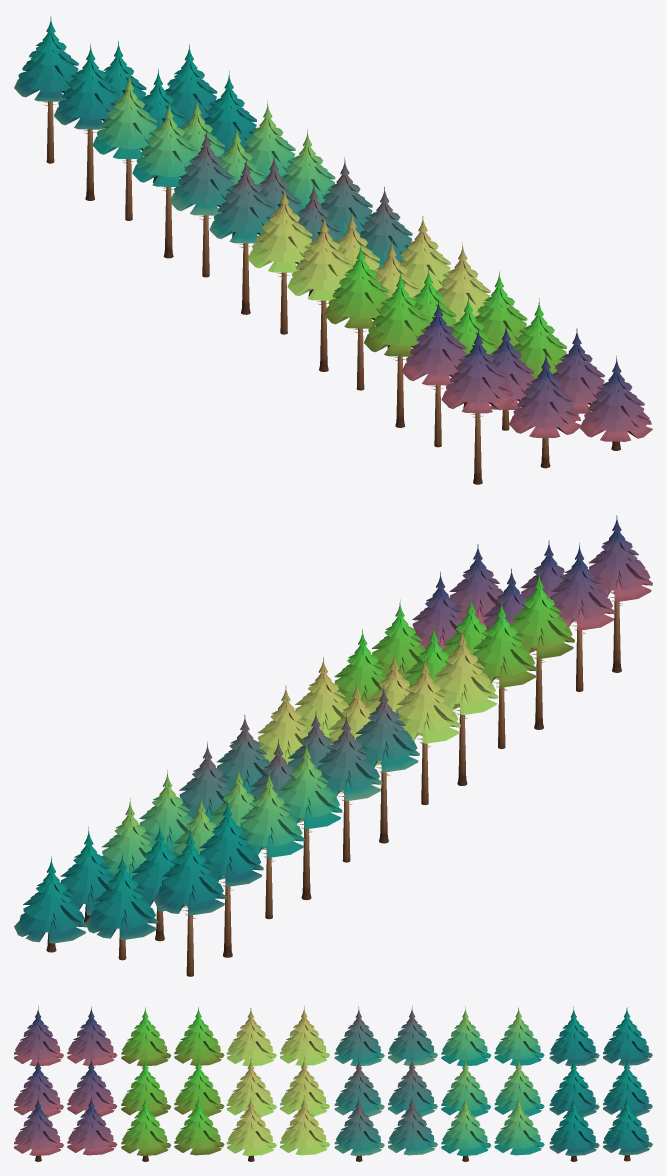
File: Pine.fbx
3 views of the same model, one above another, from view 1: azimuth 30°, elevation 25°; view 2: azimuth 150°, elevation 25°; view 3: azimuth 270°, elevation 25° (orthographic). The views are drawn at different scales.
Parts seen in each view (by area): view 1: Circle_002_005, Circle_009_005, Circle_3, Circle_002_002, Circle_002_004, Circle_002_001, Circle_003, Circle_004, Circle_002, Circle_005, Circle, Circle_001 (+24 smaller); view 2: Circle, Circle_011, Circle_001, Circle_003, Circle_002_005, Circle_002_004, Circle_002_002, Circle_3, Circle_002_001, Circle_005, Circle_002_003, Circle_002 (+24 smaller); view 3: Circle_014, Circle_014_002, Circle_014_001, Circle_014_004, Circle_014_003, Circle_014_005, Circle_012_005, Circle_012_002, Circle_012, Circle_012_004, Circle_002_002, Circle_001 (+24 smaller).
Part boxes in pixels (left/top/right/bottom): Circle_002_005: left=441, top=328, right=514, bottom=484; Circle_009_005: left=509, top=353, right=581, bottom=468; Circle_3: left=54, top=43, right=118, bottom=200; Circle_002_002: left=209, top=158, right=274, bottom=314; Circle_002_004: left=364, top=270, right=428, bottom=427; Circle_002_001: left=132, top=100, right=196, bottom=258; Circle_003: left=248, top=187, right=312, bottom=334; Circle_004: left=324, top=243, right=388, bottom=390; Circle_002: left=169, top=128, right=234, bottom=277; Circle_005: left=401, top=299, right=466, bottom=447; Circle: left=14, top=16, right=78, bottom=163; Circle_001: left=92, top=73, right=157, bottom=220; Circle: left=153, top=828, right=226, bottom=976; Circle_011: left=85, top=852, right=158, bottom=960; Circle_001: left=240, top=770, right=304, bottom=919; Circle_003: left=396, top=656, right=460, bottom=804; Circle_002_005: left=588, top=515, right=652, bottom=672; Circle_002_004: left=511, top=572, right=574, bottom=729; Circle_002_002: left=355, top=685, right=419, bottom=843; Circle_3: left=199, top=799, right=263, bottom=957; Circle_002_001: left=278, top=740, right=342, bottom=900; Circle_005: left=551, top=543, right=615, bottom=691; Circle_002_003: left=434, top=629, right=498, bottom=785; Circle_002: left=318, top=713, right=382, bottom=862; Circle_014: left=549, top=1096, right=599, bottom=1161; Circle_014_002: left=334, top=1096, right=384, bottom=1161; Circle_014_001: left=441, top=1096, right=491, bottom=1161; Circle_014_004: left=121, top=1097, right=171, bottom=1161; Circle_014_003: left=226, top=1097, right=276, bottom=1161; Circle_014_005: left=14, top=1095, right=63, bottom=1161; Circle_012_005: left=67, top=1096, right=117, bottom=1155; Circle_012_002: left=388, top=1095, right=437, bottom=1155; Circle_012: left=603, top=1096, right=652, bottom=1155; Circle_012_004: left=174, top=1096, right=224, bottom=1155; Circle_002_002: left=334, top=1006, right=384, bottom=1066; Circle_001: left=494, top=1007, right=544, bottom=1065.
Bounding box in the file's own units: 12.15 × 8.97 × 47.9.
